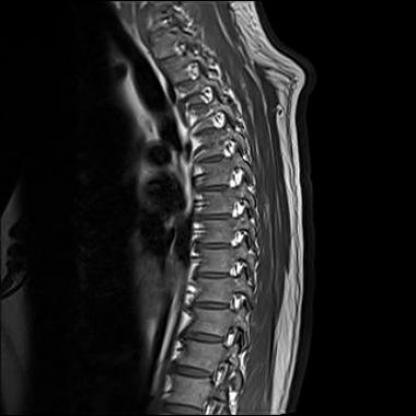Degenerative Disc Diseaserotation: (153, 30, 241, 416)
Osteophytesrotation: (154, 30, 240, 416)
